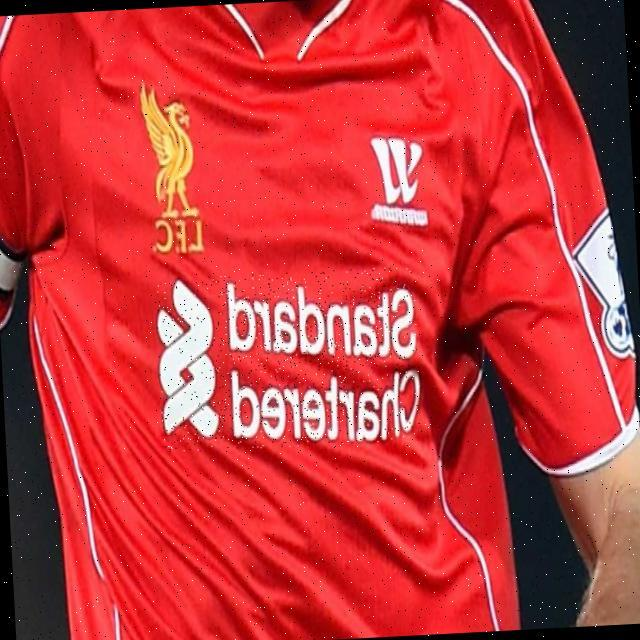Standard Chartered: (155, 266, 423, 454)
